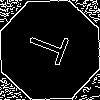T: (25, 25, 78, 70)
